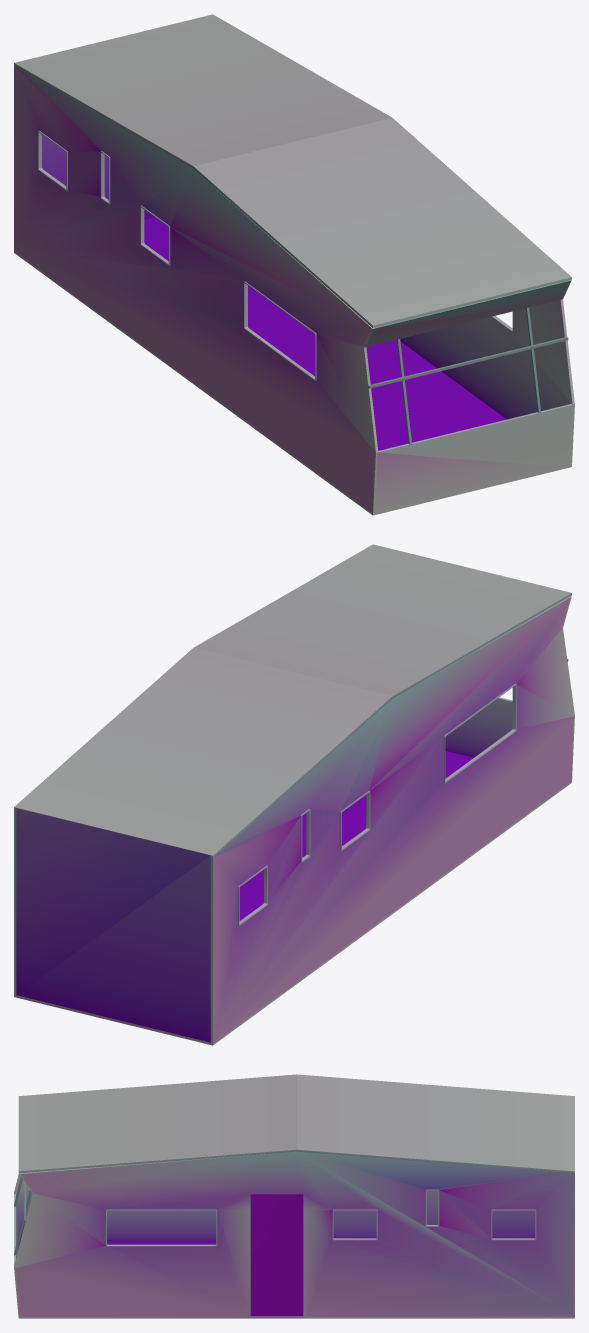
3 views of the same model, one above another, from view 1: azimuth 30°, elevation 25°; view 2: azimuth 150°, elevation 25°; view 3: azimuth 270°, elevation 25° (orthographic). The views are drawn at different scales.
Parts seen in each view (by area): view 1: side_wall, roof_sheet, crossbar; view 2: side_wall, roof_sheet; view 3: side_wall, roof_sheet.
Boxes of the visible parts, x1,y1,x2,y2 form: side_wall: (14, 65, 574, 515); roof_sheet: (14, 14, 571, 327); crossbar: (368, 337, 568, 388); side_wall: (14, 596, 574, 1045); roof_sheet: (14, 544, 571, 857); side_wall: (14, 1151, 574, 1318); roof_sheet: (18, 1074, 574, 1173).
Bounding box in the file's own units: 1.92 × 1.99 × 5.99.
